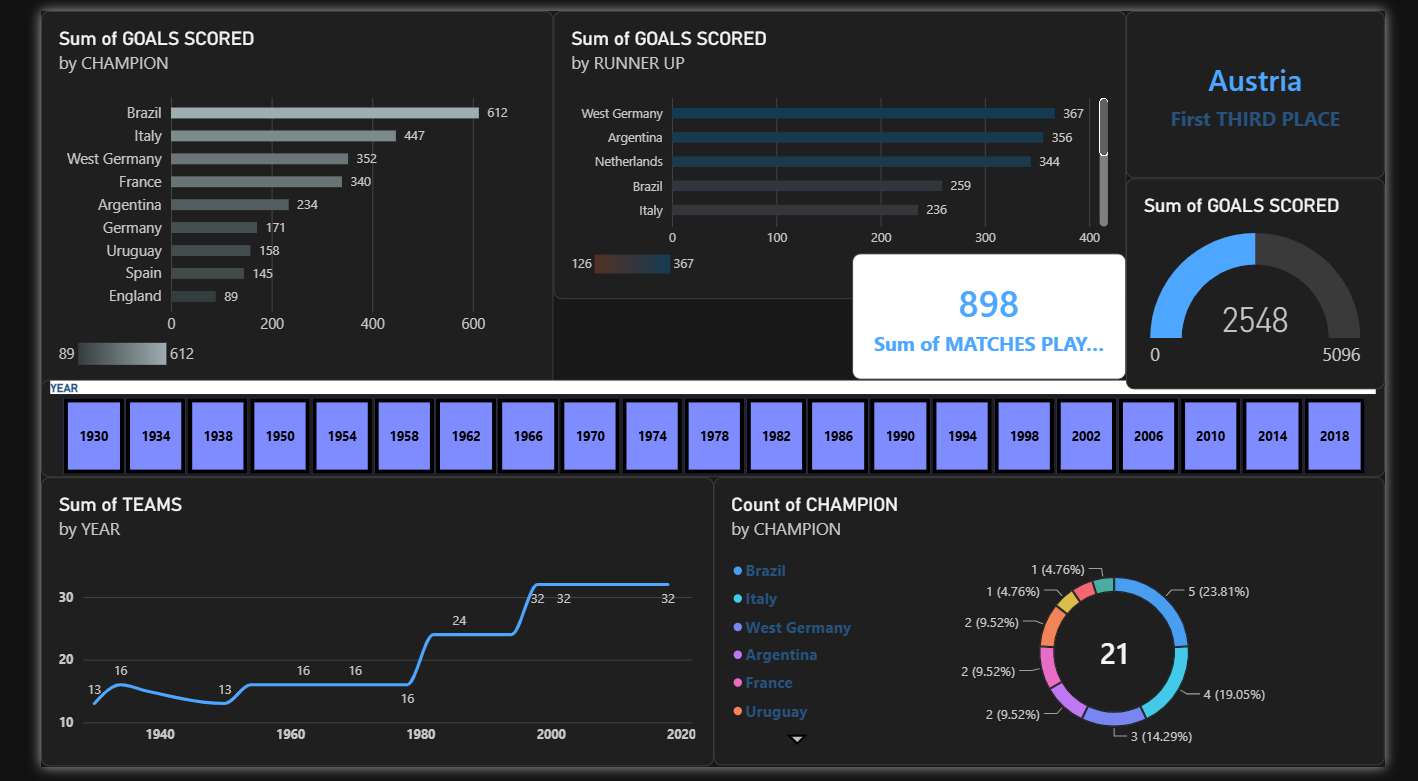

The dashboard page shown, as its layout file describes it:
{"tool":"powerbi","page":{"name":"Page 1","canvas":[1280,720],"ordinal":0},"visuals":[{"type":"clusteredBarChart","fields":{"Category":["FIFA - World Cup Summary.CHAMPION"],"Y":["Sum(FIFA - World Cup Summary.GOALS SCORED)"]},"box":[0,0,488.4,360.5],"z":0},{"type":"clusteredBarChart","fields":{"Category":["FIFA - World Cup Summary.RUNNER UP"],"Y":["Sum(FIFA - World Cup Summary.GOALS SCORED)"]},"box":[488.4,0,545.4,274.4],"z":1000},{"type":"slicer","fields":{"Values":["FIFA - World Cup Summary.YEAR"]},"box":[0,351.2,1280.2,93],"z":2000},{"type":"gauge","fields":{"Y":["Sum(FIFA - World Cup Summary.GOALS SCORED)"]},"box":[1033.7,159.3,246.5,201.2],"z":3000},{"type":"card","fields":{"Values":["Min(FIFA - World Cup Summary.THIRD PLACE)"]},"box":[1033.7,0,246.5,159.3],"z":4000},{"type":"lineChart","fields":{"Category":["FIFA - World Cup Summary.YEAR"],"Y":["Sum(FIFA - World Cup Summary.TEAMS)"]},"box":[0,444.2,640.7,275.6],"z":5000},{"type":"donutChart","fields":{"Category":["FIFA - World Cup Summary.CHAMPION"],"Y":["CountNonNull(FIFA - World Cup Summary.CHAMPION)"]},"box":[640.7,444.2,639.5,274.4],"z":6000},{"type":"card","fields":{"Values":["Sum(FIFA - World Cup Summary.MATCHES PLAYED)"]},"box":[772.6,231,260.7,120.2],"z":7000}]}

Visuals, with their boxes in screenshot pixels (x1, y1, x2, y2), scaled from the page's 1280x720 canvas onto the 1418x781 screenshot:
clusteredBarChart - FIFA - World Cup Summary.CHAMPION x Sum(FIFA - World Cup Summary.GOALS SCORED): bbox=[0, 0, 541, 391]
clusteredBarChart - FIFA - World Cup Summary.RUNNER UP x Sum(FIFA - World Cup Summary.GOALS SCORED): bbox=[541, 0, 1145, 298]
slicer - FIFA - World Cup Summary.YEAR: bbox=[0, 381, 1417, 482]
gauge - Sum(FIFA - World Cup Summary.GOALS SCORED): bbox=[1145, 173, 1417, 391]
card - Min(FIFA - World Cup Summary.THIRD PLACE): bbox=[1145, 0, 1417, 173]
lineChart - FIFA - World Cup Summary.YEAR x Sum(FIFA - World Cup Summary.TEAMS): bbox=[0, 482, 710, 780]
donutChart - FIFA - World Cup Summary.CHAMPION x CountNonNull(FIFA - World Cup Summary.CHAMPION): bbox=[710, 482, 1417, 779]
card - Sum(FIFA - World Cup Summary.MATCHES PLAYED): bbox=[856, 251, 1145, 381]
